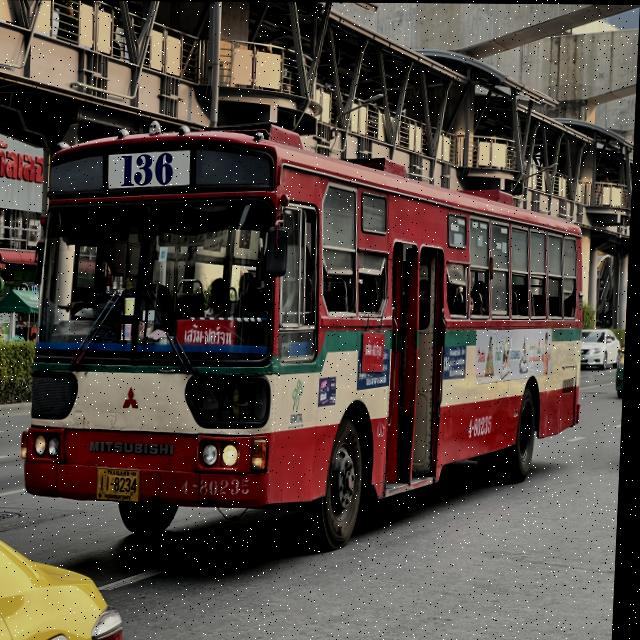BMTA-bus: (20, 108, 598, 560)
Bus-Line-Number: (108, 151, 192, 189)
Destination-Sign-Extra-Bus: (178, 318, 243, 347)
